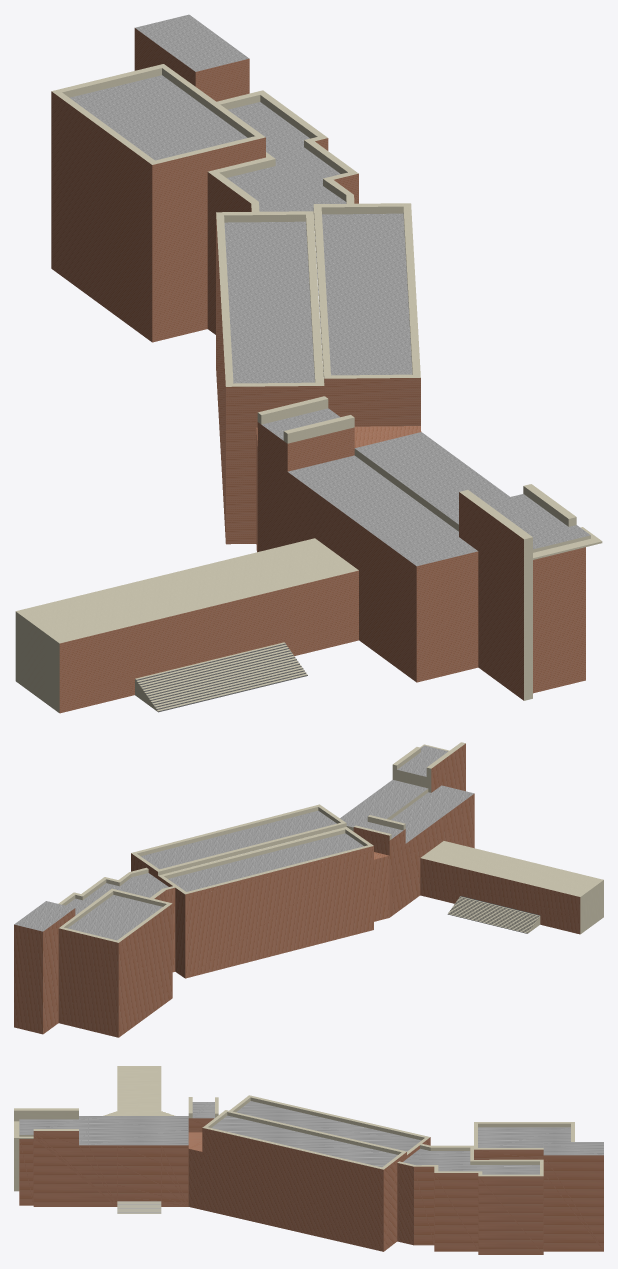
3 renders of one model, top to bottom at view 1: azimuth 30°, elevation 25°; view 2: azimuth 150°, elevation 25°; view 3: azimuth 270°, elevation 25°, orthographic. The views are drawn at different scales.
Bounding box in the file's own units: 93.05 × 27.14 × 151.
7 materials, 3 textured.
